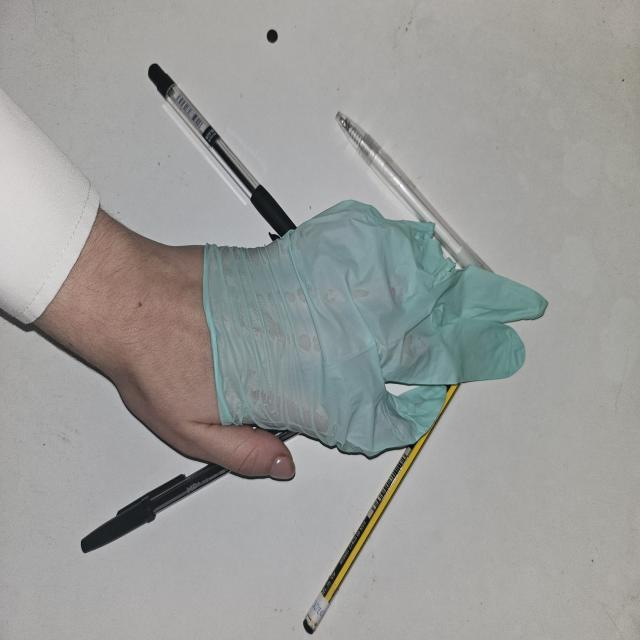glove_partial: (125, 198, 548, 479)
